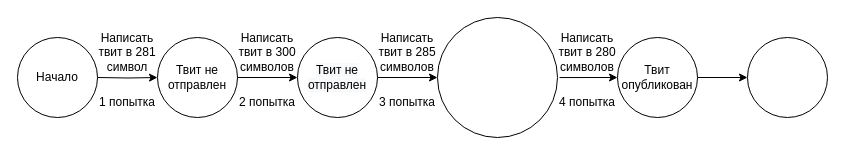
Image size: 845x155. Some labels were removed from this diagram. Here are the shapes that lost their labels. From the top down, the centre of each, then its label:
At [497,77]: "Твит не отправлен, высвечивается напоминание про длину твита 280 символов".
At [787,77]: "Конец".
